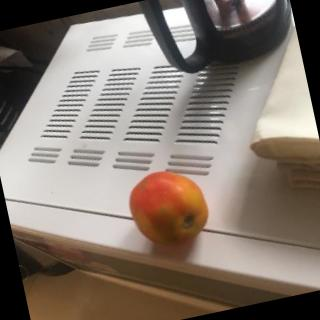Tomat: (114, 149, 221, 261)
